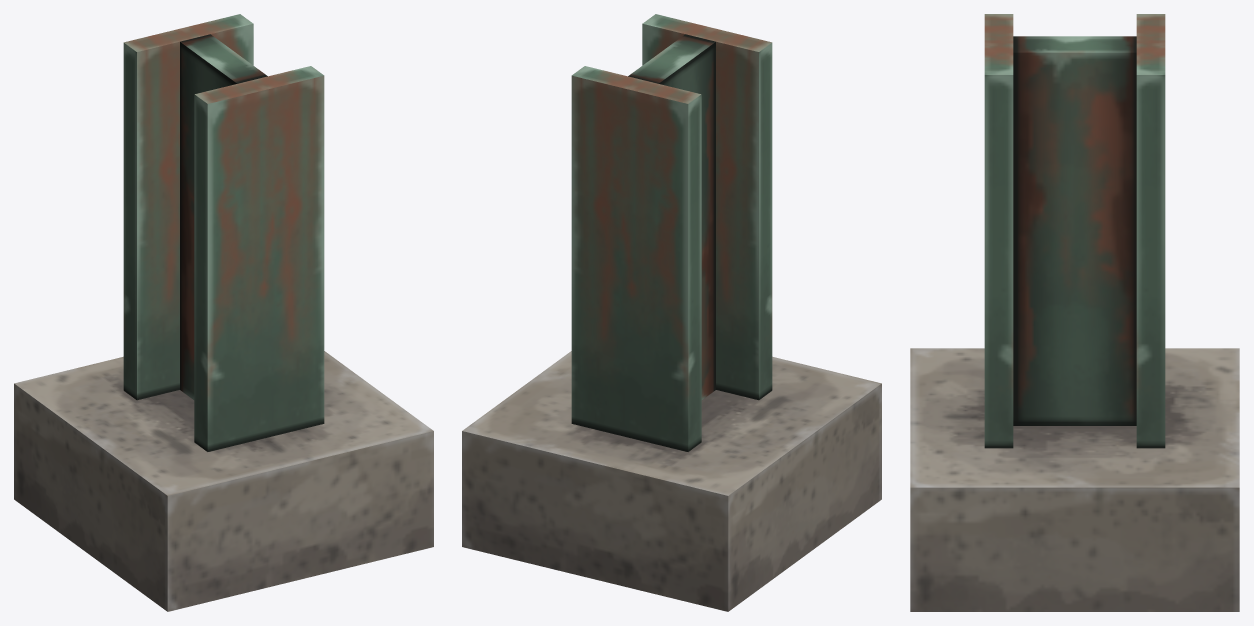
The model's file is foundation_container03.fbx.
The picture shows the model from 3 angles, left to right: view 1: azimuth 30°, elevation 25°; view 2: azimuth 150°, elevation 25°; view 3: azimuth 270°, elevation 25°; orthographic projection. The views are drawn at different scales.
Visible parts, largest first — view 1: foundation_container03; view 2: foundation_container03; view 3: foundation_container03.
Part boxes in pixels (box(x1,y1,x2,y2)): foundation_container03: box(14, 14, 433, 611); foundation_container03: box(462, 14, 881, 611); foundation_container03: box(910, 14, 1239, 611).
Bounding box in the file's own units: 60 × 100 × 60.
